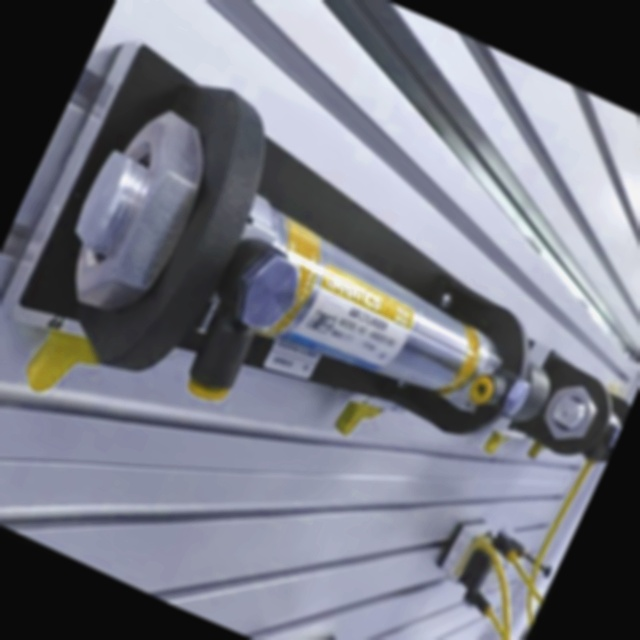double acting pneumatic cylinder: (0, 0, 638, 607)
